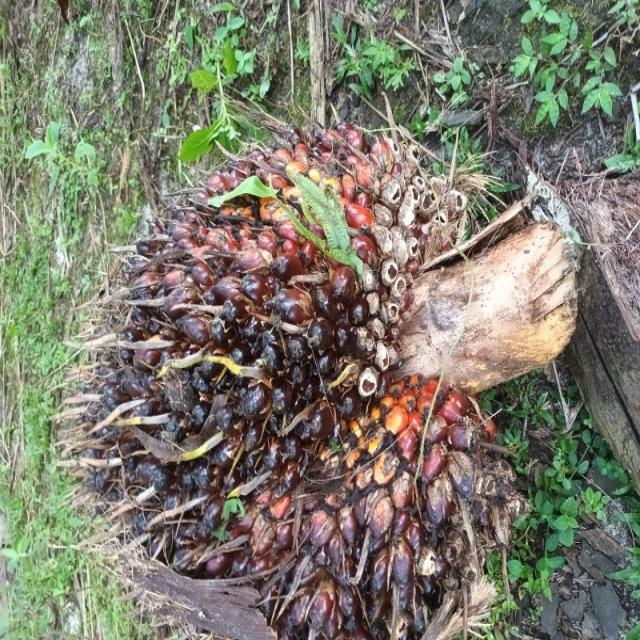fraksi 00: (5, 68, 398, 640)
